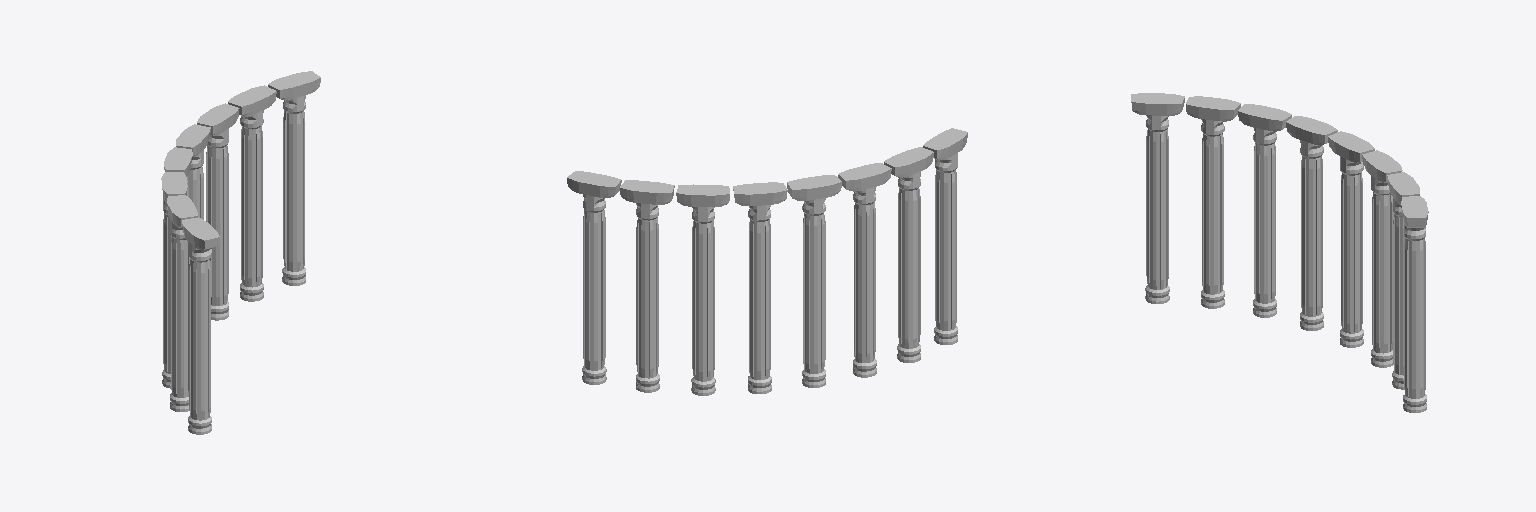
Rendered from _illarround.obj.
The picture shows the model from 3 angles: view 1: azimuth 30°, elevation 25°; view 2: azimuth 150°, elevation 25°; view 3: azimuth 270°, elevation 25°; orthographic projection.
Visible parts, largest first — view 1: MASH_ReproMesh3; view 2: MASH_ReproMesh3; view 3: MASH_ReproMesh3.
Boxes of the visible parts, box(x1,y1,x2,y2) form: MASH_ReproMesh3: box(161, 71, 320, 434); MASH_ReproMesh3: box(567, 128, 967, 395); MASH_ReproMesh3: box(1131, 93, 1428, 412).
Bounding box in the file's own units: 20.12 × 14.99 × 20.12.